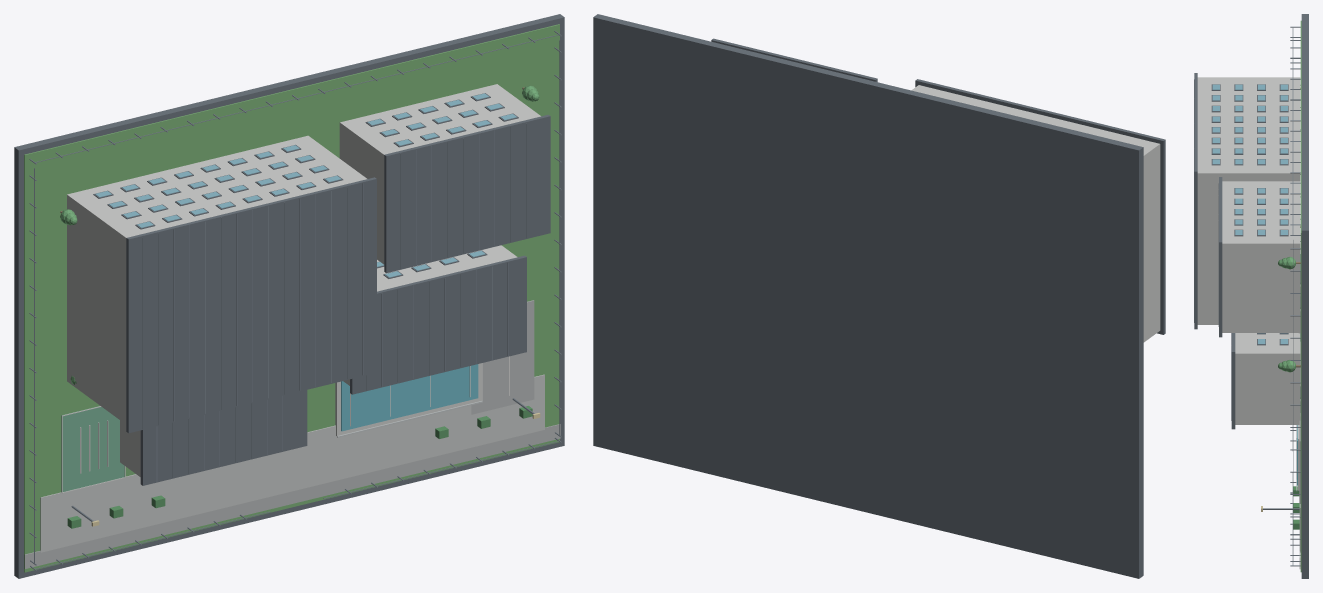
File: medical_centre_level_5.glb
The picture shows the model from 3 angles, left to right: view 1: azimuth 30°, elevation 25°; view 2: azimuth 150°, elevation 25°; view 3: azimuth 270°, elevation 25°; orthographic projection. The views are drawn at different scales.
Parts seen in each view (by area): view 1: land_1, dark_roof_5, clinic_walls_4, forecourt_2, dark_roof_156, dark_roof_231, base_slab_0, dark_roof_287, clinic_walls_155, access_road_3, hydro_pool_322, rehab_field_329 (+4 smaller); view 2: base_slab_0, clinic_walls_4, dark_roof_5, dark_roof_156; view 3: clinic_walls_4, clinic_walls_155, clinic_walls_230, base_slab_0, land_1, dark_roof_5, dark_roof_156, dark_roof_231, fence_rail_493.
Boxes of the visible parts, left/top/right/bottom form: land_1: left=24, top=24, right=559, bottom=572; dark_roof_5: left=126, top=177, right=376, bottom=433; clinic_walls_4: left=67, top=135, right=366, bottom=424; forecourt_2: left=40, top=374, right=544, bottom=552; dark_roof_156: left=384, top=114, right=550, bottom=273; dark_roof_231: left=350, top=255, right=526, bottom=394; base_slab_0: left=14, top=14, right=564, bottom=578; dark_roof_287: left=140, top=390, right=307, bottom=485; clinic_walls_155: left=339, top=84, right=540, bottom=264; access_road_3: left=24, top=424, right=560, bottom=568; hydro_pool_322: left=341, top=364, right=478, bottom=431; rehab_field_329: left=61, top=406, right=124, bottom=491; base_slab_0: left=593, top=14, right=1143, bottom=578; clinic_walls_4: left=911, top=85, right=1160, bottom=342; dark_roof_5: left=915, top=79, right=1165, bottom=334; dark_roof_156: left=711, top=38, right=877, bottom=82; clinic_walls_4: left=1197, top=77, right=1300, bottom=324; clinic_walls_155: left=1222, top=181, right=1300, bottom=332; clinic_walls_230: left=1235, top=333, right=1300, bottom=424; base_slab_0: left=1301, top=14, right=1308, bottom=578; land_1: left=1300, top=20, right=1301, bottom=572; dark_roof_5: left=1194, top=73, right=1197, bottom=329; dark_roof_156: left=1219, top=177, right=1222, bottom=337; dark_roof_231: left=1231, top=333, right=1235, bottom=429; fence_rail_493: left=1293, top=240, right=1293, bottom=560.
Size of the model in its own units: 52 by 39 by 11.66.
